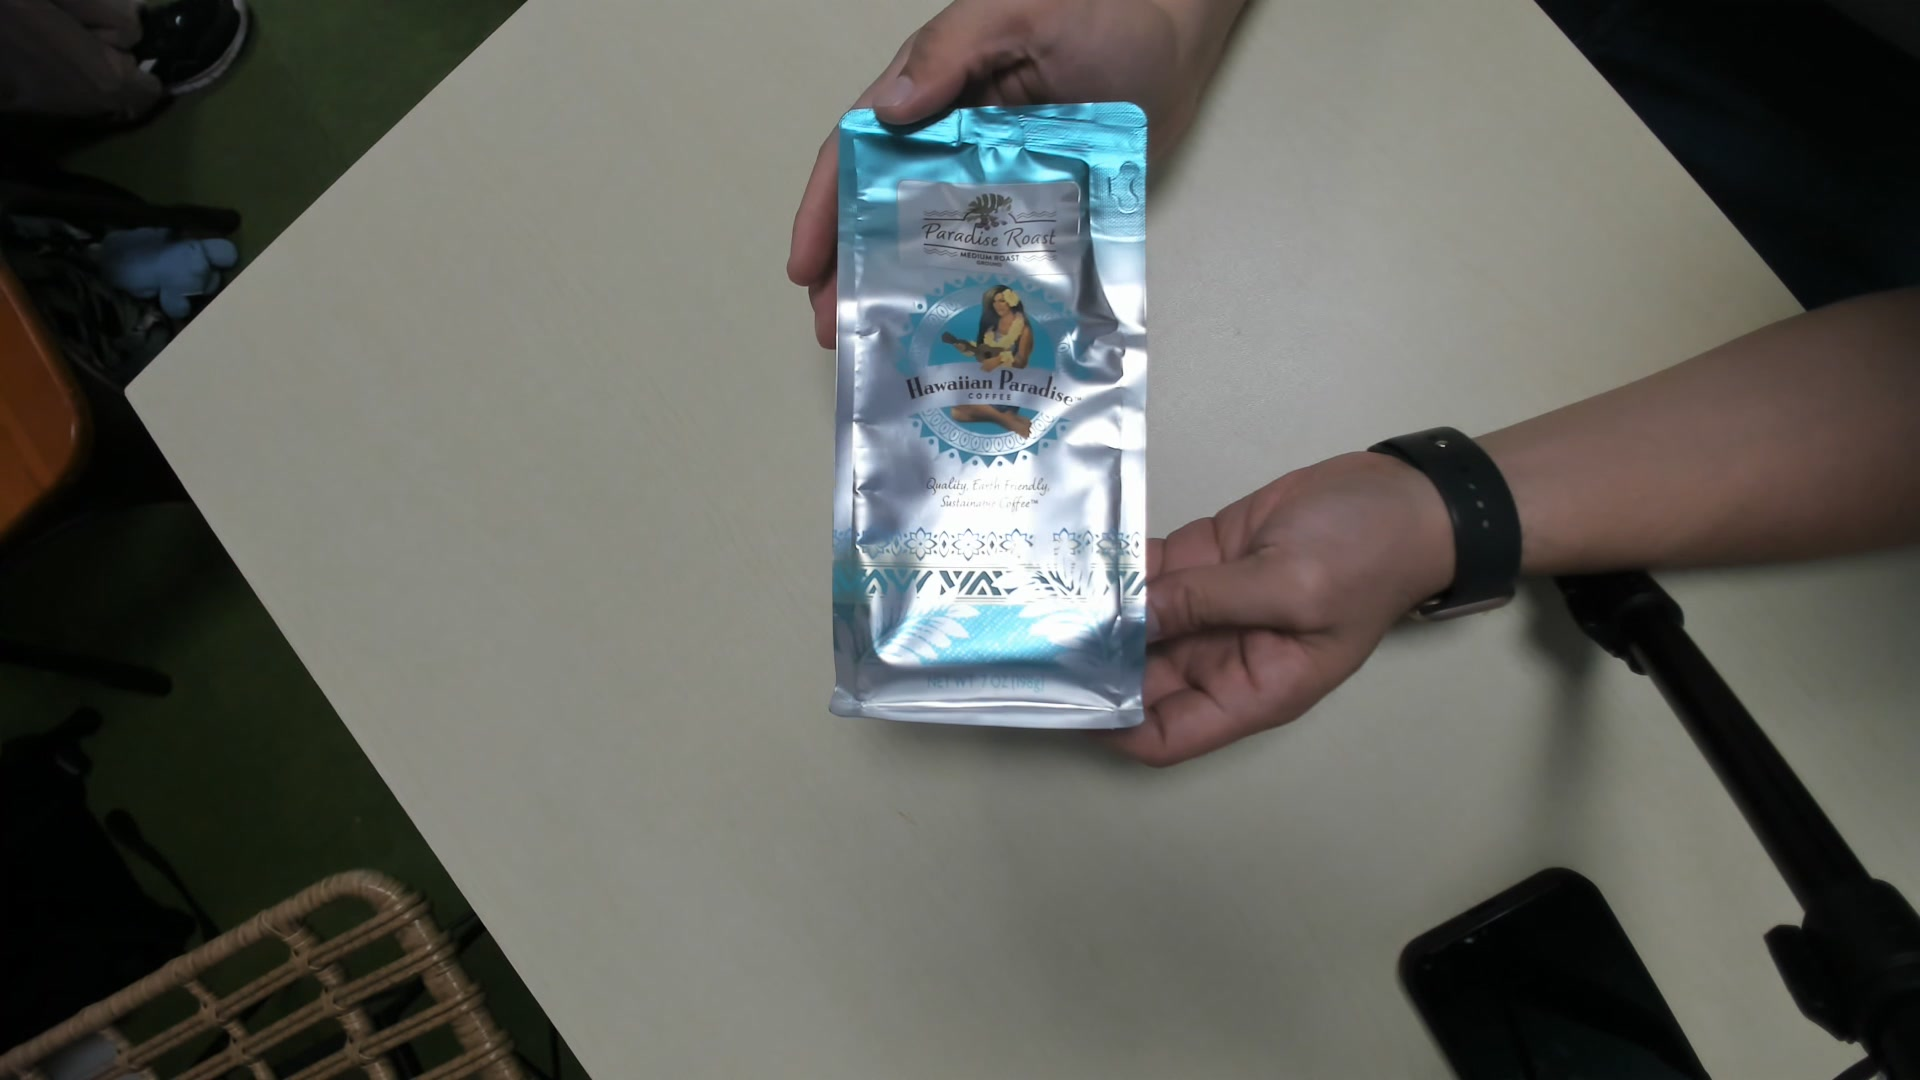Coffee_100-199g_NonHalal_NonHealthy: (823, 102, 1154, 737)
